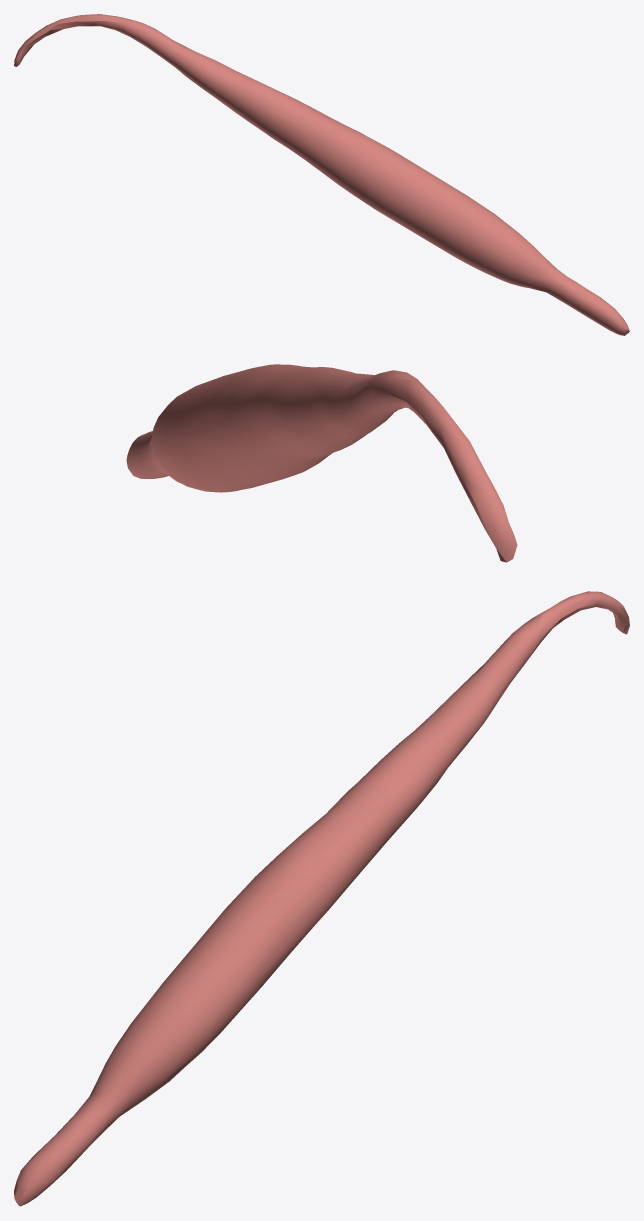
File: fma49031_mm1049m.glb
3 views of the same model, one above another, from view 1: azimuth 30°, elevation 25°; view 2: azimuth 150°, elevation 25°; view 3: azimuth 270°, elevation 25° (orthographic). The views are drawn at different scales.
Visible parts, largest first — view 1: FMA49031_MM1049M; view 2: FMA49031_MM1049M; view 3: FMA49031_MM1049M.
Boxes of the visible parts, left/top/right/bottom form: FMA49031_MM1049M: left=14, top=14, right=629, bottom=335; FMA49031_MM1049M: left=126, top=364, right=517, bottom=562; FMA49031_MM1049M: left=14, top=591, right=629, bottom=1206.
Size of the model in its own units: 0.0137 by 0.00851 by 0.0128.
